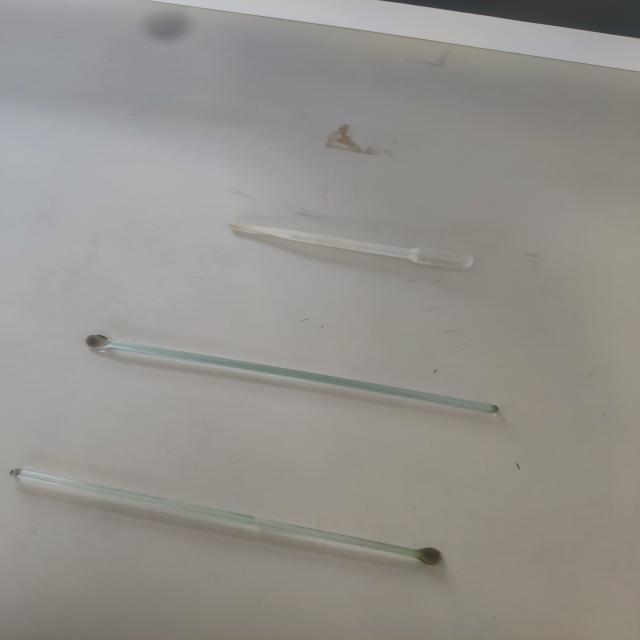Glass_Rod: (0, 445, 456, 588), (69, 312, 532, 442)
Pipette: (186, 205, 509, 288)
